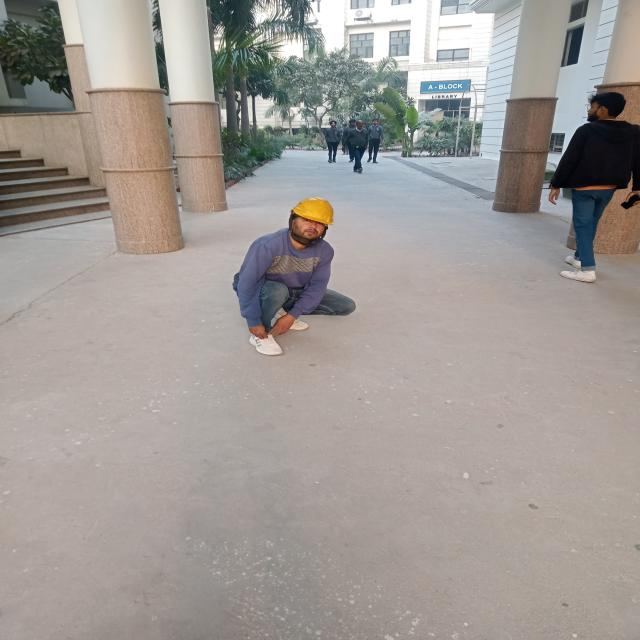no jacket: (235, 197, 364, 362)
unsafe: (547, 89, 640, 284), (350, 121, 369, 174), (367, 118, 383, 164)
